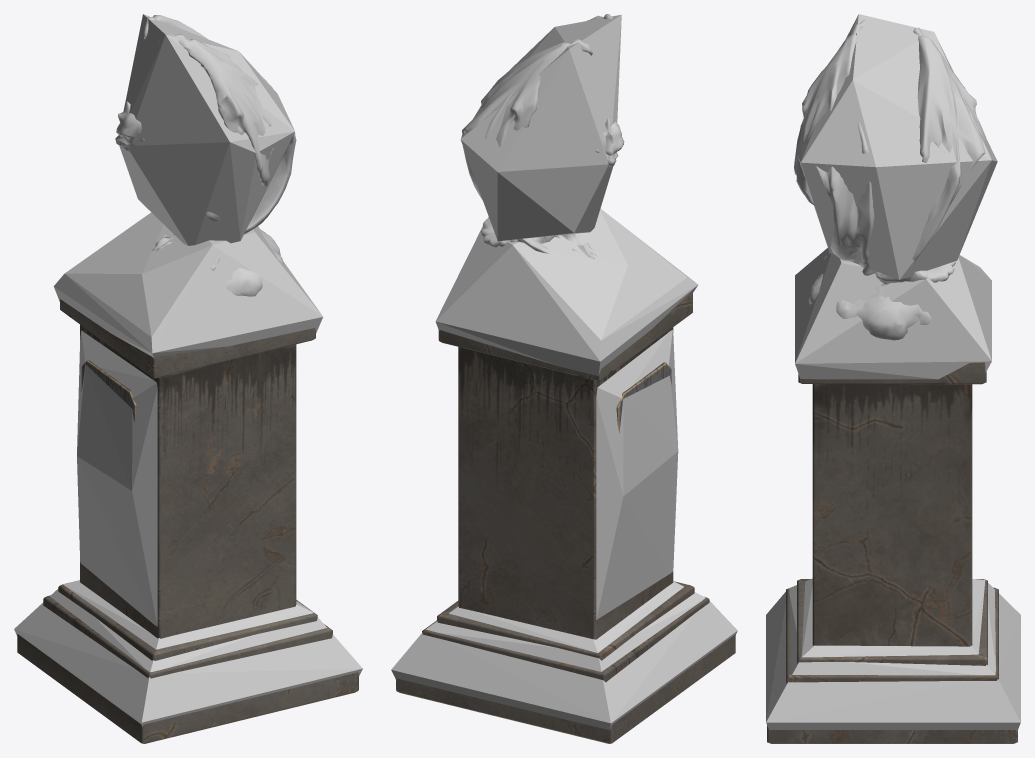
File: SM_Gargoyle_Statue_On_Stand.fbx
3 views of the same model, side by side, from view 1: azimuth 30°, elevation 25°; view 2: azimuth 150°, elevation 25°; view 3: azimuth 270°, elevation 25° (orthographic).
Visible parts, largest first — view 1: SM_Gargoyle_Statue_On_Stand_ConvexHulls, SM_Gargoyle_Statue_On_Stand; view 2: SM_Gargoyle_Statue_On_Stand_ConvexHulls, SM_Gargoyle_Statue_On_Stand; view 3: SM_Gargoyle_Statue_On_Stand, SM_Gargoyle_Statue_On_Stand_ConvexHulls.
Boxes of the visible parts, x1,y1,x2,y2 form: SM_Gargoyle_Statue_On_Stand_ConvexHulls: [14, 14, 362, 726]; SM_Gargoyle_Statue_On_Stand: [17, 15, 358, 743]; SM_Gargoyle_Statue_On_Stand_ConvexHulls: [391, 14, 737, 730]; SM_Gargoyle_Statue_On_Stand: [396, 14, 735, 743]; SM_Gargoyle_Statue_On_Stand: [767, 19, 1017, 743]; SM_Gargoyle_Statue_On_Stand_ConvexHulls: [766, 14, 1020, 731].
Bounding box in the file's own units: 60.32 × 60.32 × 172.
